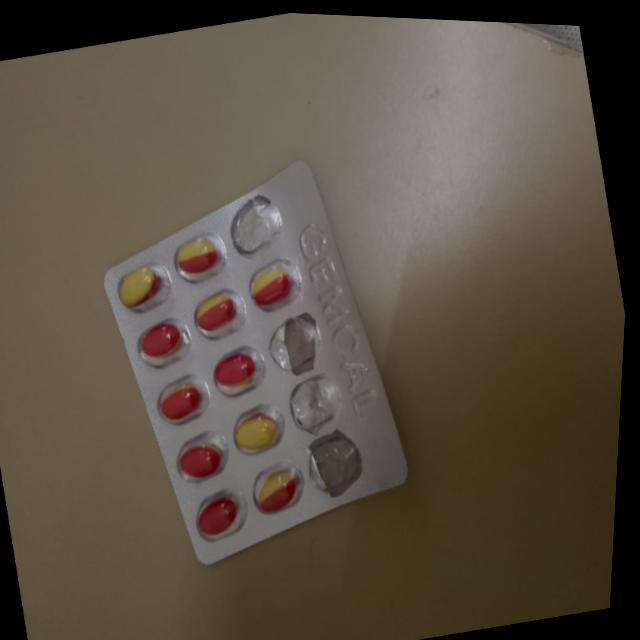medicine: (65, 113, 446, 577)
